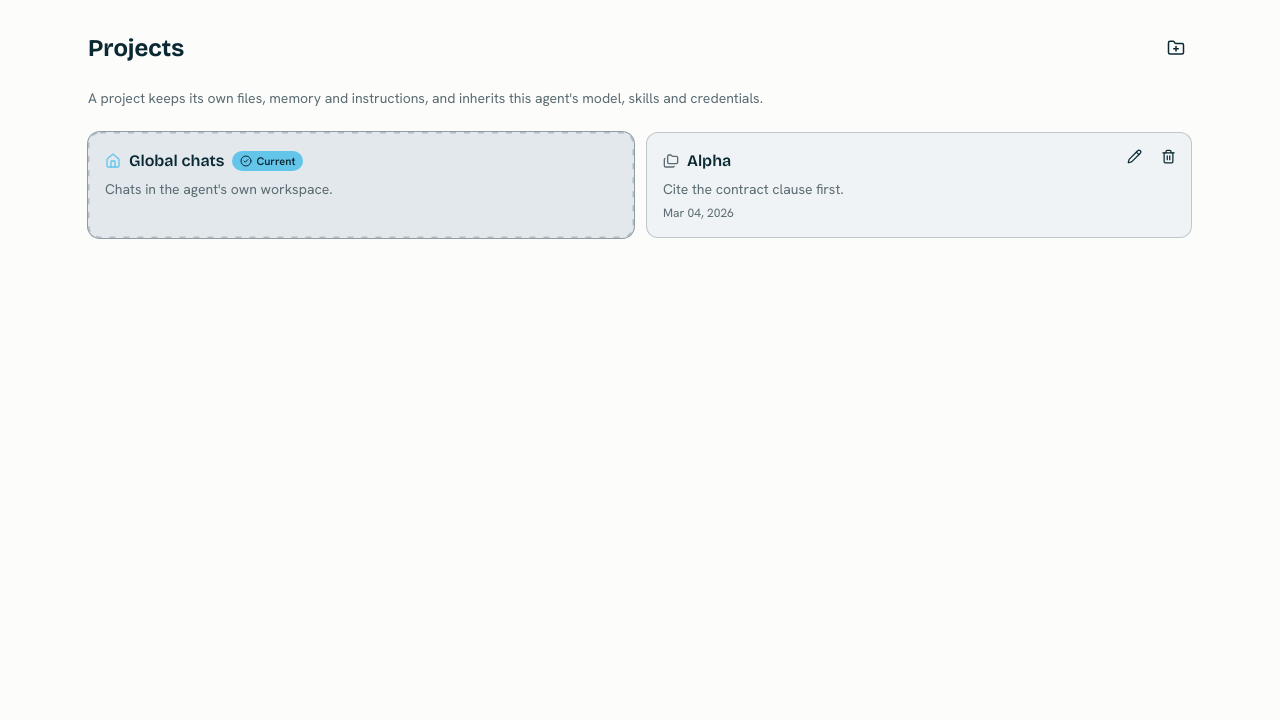
Test: editing in place › closes on Escape without saving
The width and height of the screenshot is (1280, 720).
Click the button named "Edit project".
click(1134, 156)  # box [1118,140,1150,172]
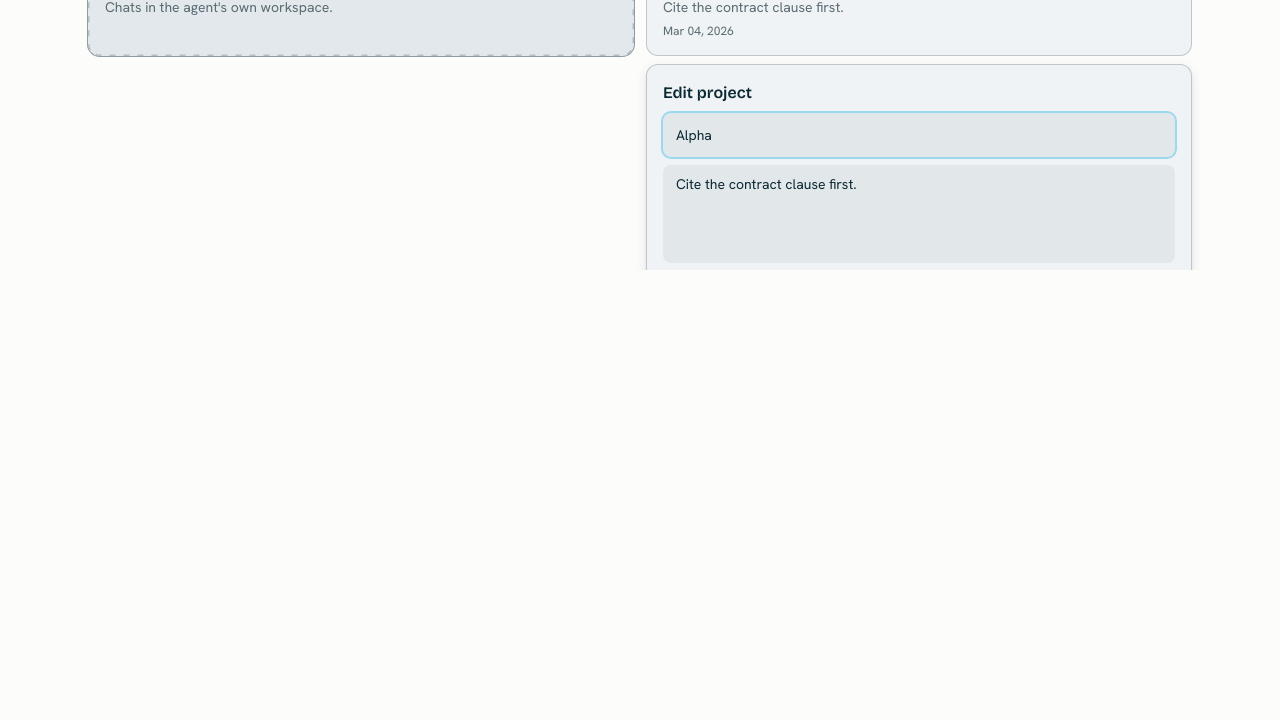
Press Escape in the form, box [646,64,1192,360]
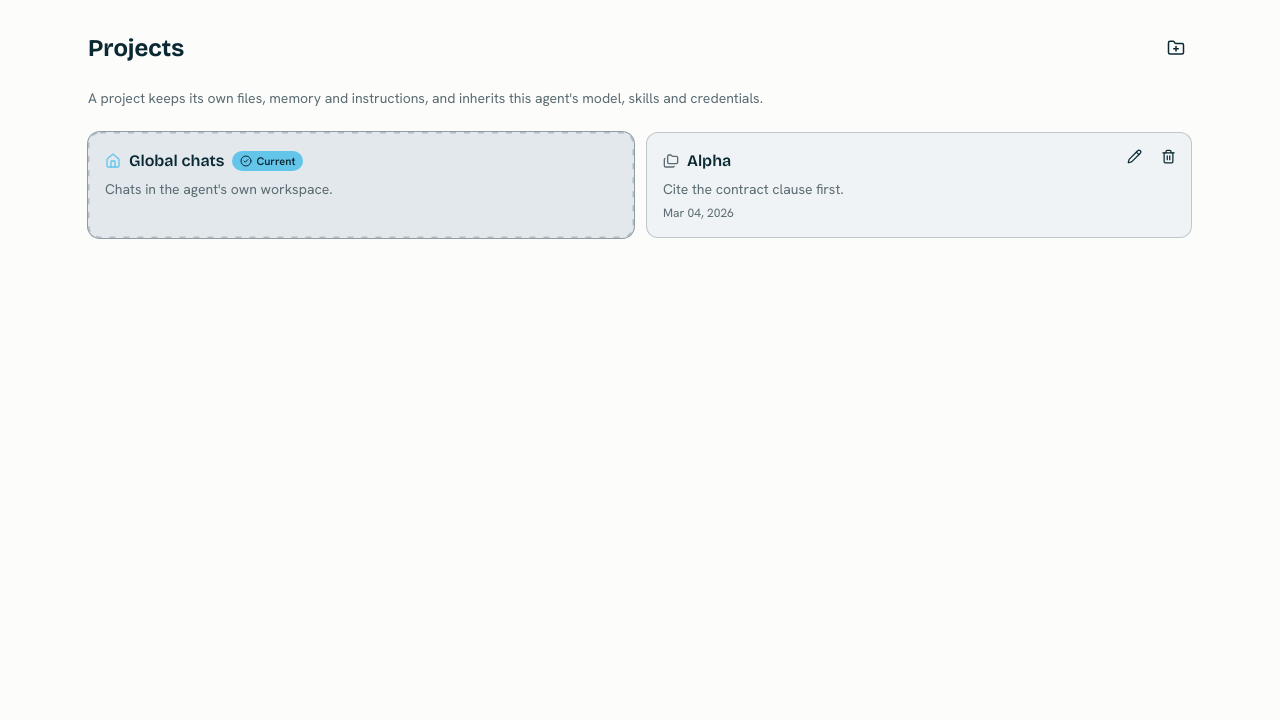
Expected: the dialog is gone
